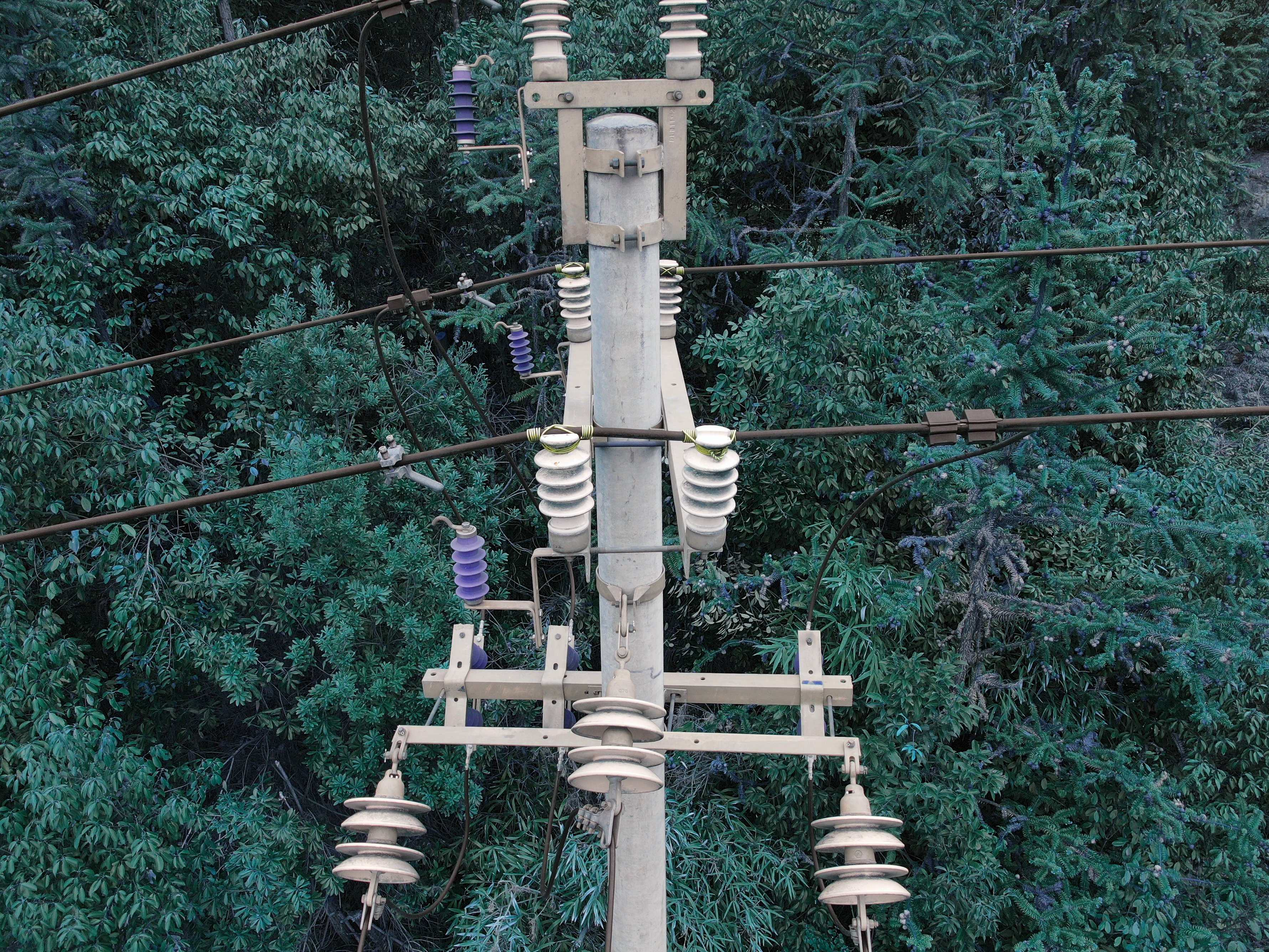severe_soiling_no_discharge_whole: (563, 671, 669, 797), (808, 785, 912, 910), (331, 771, 433, 885), (530, 422, 600, 552), (677, 424, 741, 552), (553, 263, 591, 342), (659, 260, 683, 339)
